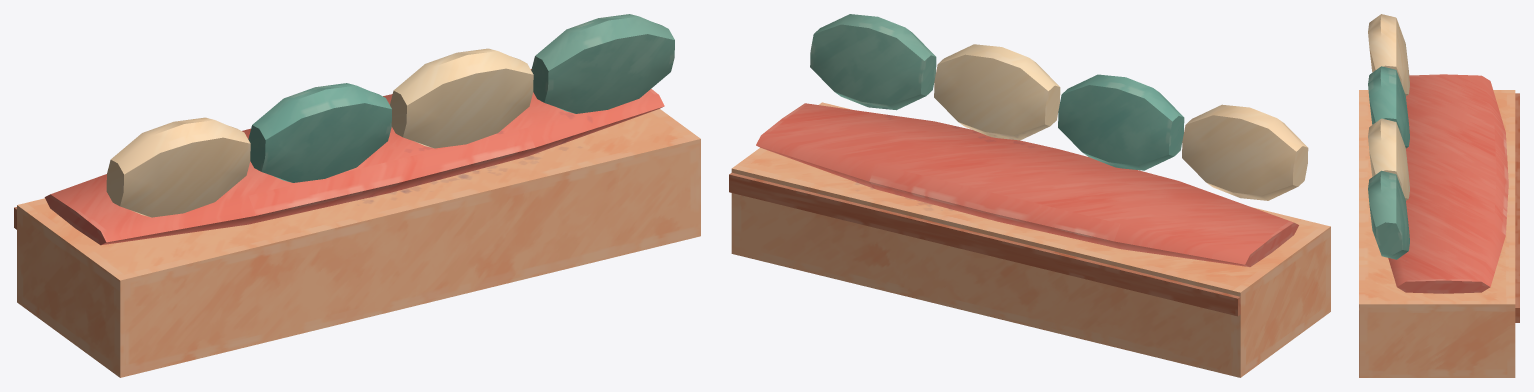
The model's file is divan_low.fbx.
3 renders of one model, left to right at view 1: azimuth 30°, elevation 25°; view 2: azimuth 150°, elevation 25°; view 3: azimuth 270°, elevation 25°, orthographic. The views are drawn at different scales.
Parts seen in each view (by area): view 1: divan; view 2: divan; view 3: divan.
Boxes of the visible parts, bbox=[...] form: divan: bbox=[14, 14, 700, 377]; divan: bbox=[729, 14, 1330, 377]; divan: bbox=[1359, 14, 1519, 377].
Bounding box in the file's own units: 7.8 × 2.88 × 2.47.
1 material, 1 textured.
